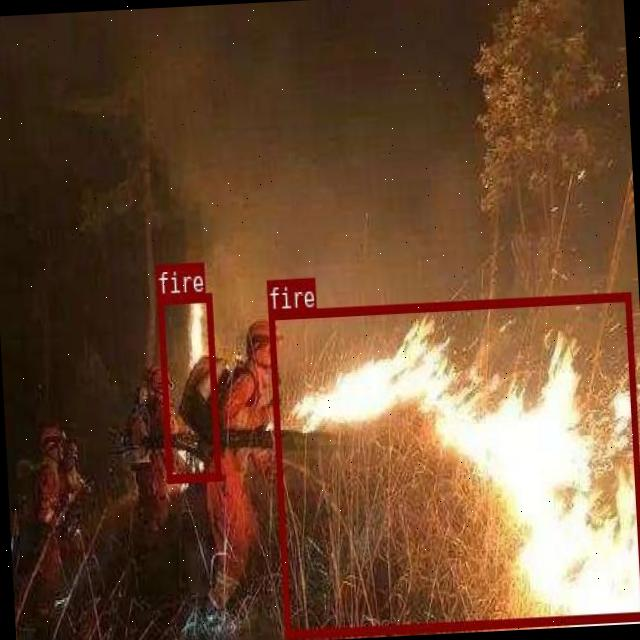fire: (267, 292, 640, 638), (157, 292, 220, 482)
